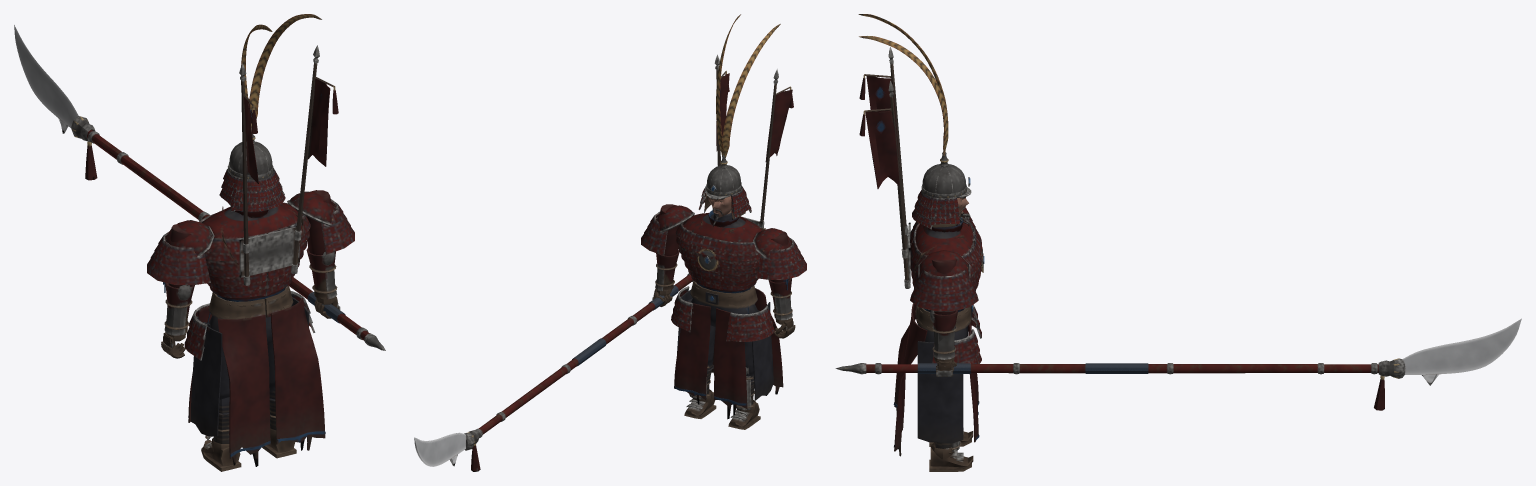
Rendered from GeneralZhao_v2_Game.glb.
The picture shows the model from 3 angles, left to right: view 1: azimuth 30°, elevation 25°; view 2: azimuth 150°, elevation 25°; view 3: azimuth 270°, elevation 25°; orthographic projection. The views are drawn at different scales.
Visible parts, largest first — view 1: Zhao_LowerTorso, Zhao_Pennants, Zhao_UpperTorso, Zhao_LeftUpperLeg, Zhao_LeftUpperArm, Zhao_Head, Zhao_GuandaoBlade, Zhao_GuandaoHaft, Zhao_RightUpperArm, Zhao_Plumes, Zhao_LeftLowerArm, Zhao_RightLowerArm (+5 smaller); view 2: Zhao_UpperTorso, Zhao_LeftUpperLeg, Zhao_RightUpperLeg, Zhao_LowerTorso, Zhao_GuandaoHaft, Zhao_LeftUpperArm, Zhao_Pennants, Zhao_Head, Zhao_RightUpperArm, Zhao_GuandaoBlade, Zhao_Plumes, Zhao_LeftLowerArm (+3 smaller); view 3: Zhao_GuandaoHaft, Zhao_RightUpperLeg, Zhao_Pennants, Zhao_GuandaoBlade, Zhao_RightUpperArm, Zhao_Head, Zhao_UpperTorso, Zhao_LowerTorso, Zhao_Plumes, Zhao_RightLowerArm, Zhao_RightFoot.
Boxes of the visible parts, x1,y1,x2,y2 form: Zhao_LowerTorso: [203, 285, 325, 466]; Zhao_Pennants: [239, 45, 338, 285]; Zhao_UpperTorso: [199, 202, 310, 310]; Zhao_LeftUpperLeg: [184, 303, 229, 436]; Zhao_LeftUpperArm: [147, 220, 214, 292]; Zhao_Head: [219, 128, 285, 211]; Zhao_GuandaoBlade: [14, 25, 97, 180]; Zhao_GuandaoHaft: [87, 129, 385, 350]; Zhao_RightUpperArm: [287, 190, 354, 254]; Zhao_Plumes: [241, 14, 321, 128]; Zhao_LeftLowerArm: [164, 283, 194, 335]; Zhao_RightLowerArm: [306, 248, 337, 299]; Zhao_UpperTorso: [675, 210, 765, 293]; Zhao_LeftUpperLeg: [714, 302, 774, 419]; Zhao_RightUpperLeg: [671, 286, 715, 404]; Zhao_LowerTorso: [690, 280, 783, 394]; Zhao_GuandaoHaft: [475, 273, 693, 437]; Zhao_LeftUpperArm: [753, 228, 806, 290]; Zhao_Pennants: [714, 54, 793, 227]; Zhao_Head: [698, 154, 751, 226]; Zhao_RightUpperArm: [641, 204, 694, 255]; Zhao_GuandaoBlade: [414, 430, 480, 471]; Zhao_Plumes: [716, 14, 780, 158]; Zhao_LeftLowerArm: [768, 278, 792, 320]; Zhao_GuandaoHaft: [835, 363, 1378, 374]; Zhao_RightUpperLeg: [917, 324, 981, 443]; Zhao_Pennants: [859, 47, 910, 288]; Zhao_GuandaoBlade: [1374, 318, 1521, 410]; Zhao_RightUpperArm: [910, 250, 978, 314]; Zhao_Head: [912, 152, 971, 229]; Zhao_UpperTorso: [910, 217, 984, 312]; Zhao_LowerTorso: [893, 303, 972, 456]; Zhao_Plumes: [858, 14, 948, 155]; Zhao_RightLowerArm: [930, 310, 957, 359]; Zhao_RightFoot: [929, 442, 973, 471].
Size of the model in its own units: 3.36 by 7.56 by 10.94.
Materials: 2 (2 with a texture image).
